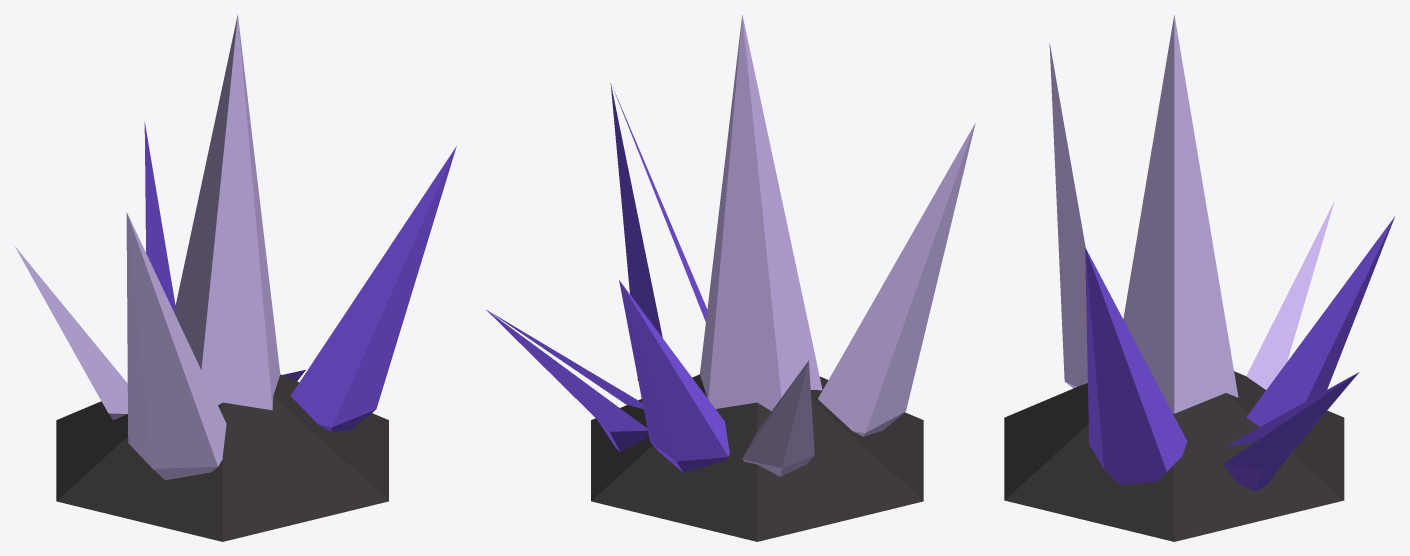
The model's file is cave_crystals.glb.
The picture shows the model from 3 angles, left to right: view 1: azimuth 30°, elevation 25°; view 2: azimuth 150°, elevation 25°; view 3: azimuth 270°, elevation 25°; orthographic projection. The views are drawn at different scales.
Visible parts, largest first — view 1: cave_crystals; view 2: cave_crystals; view 3: cave_crystals.
Boxes of the visible parts, box(x1,y1,x2,y2) form: cave_crystals: box(15, 14, 456, 541); cave_crystals: box(486, 15, 975, 541); cave_crystals: box(1004, 15, 1394, 541).
Size of the model in its own units: 1.18 by 1.4 by 1.1.
Materials: 1 (1 with a texture image).
